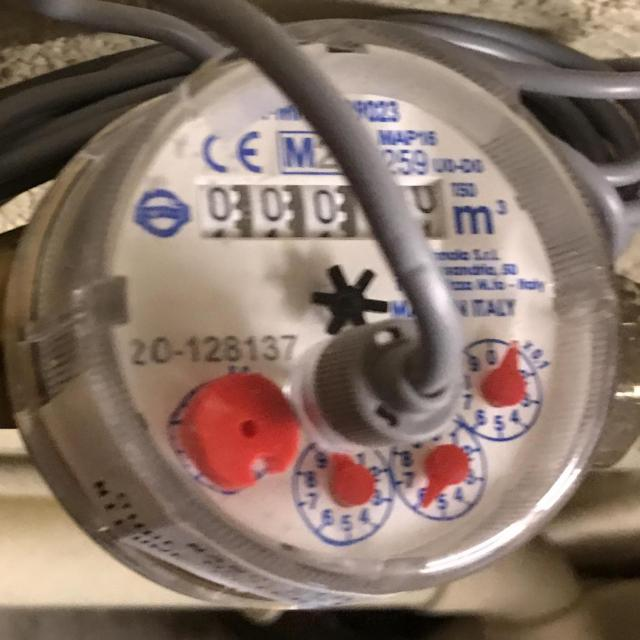gaz_meter: (101, 90, 563, 566)
indication: (194, 177, 445, 245)
